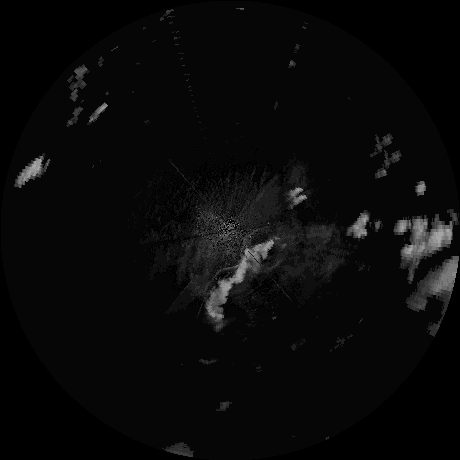frontgust: (240, 225, 266, 258), (206, 265, 236, 292)
